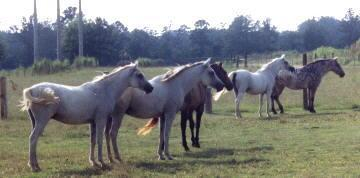horse: (17, 60, 153, 172), (104, 57, 233, 162), (214, 54, 295, 119), (269, 56, 345, 113)
